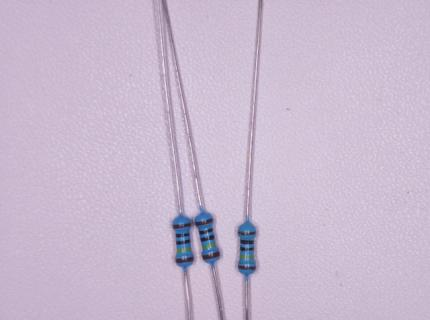Black band: (200, 234, 215, 243), (198, 227, 213, 235), (176, 232, 190, 239), (176, 239, 190, 246), (240, 239, 255, 245), (240, 246, 254, 252)
Brown band: (201, 251, 220, 261), (194, 218, 214, 227), (175, 256, 195, 264), (173, 222, 192, 230), (238, 264, 256, 270), (238, 231, 256, 236)
Yellow band: (177, 247, 192, 254), (202, 243, 217, 250), (240, 255, 255, 260)
